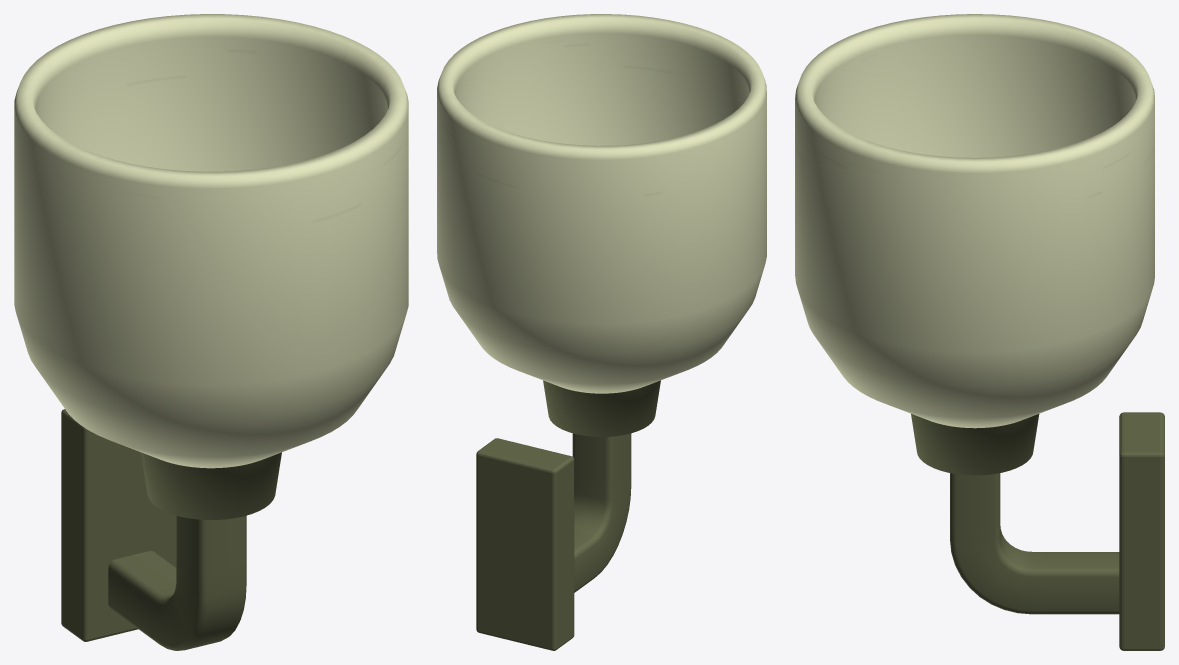
File: StraightLamp_ARCH01_PLATE_C1_UVFIX.fbx
3 views of the same model, side by side, from view 1: azimuth 30°, elevation 25°; view 2: azimuth 150°, elevation 25°; view 3: azimuth 270°, elevation 25° (orthographic). The views are drawn at different scales.
Visible parts, largest first — view 1: StraightLamp; view 2: StraightLamp; view 3: StraightLamp.
Part boxes in pixels (box(x1,y1,x2,y2)): StraightLamp: box(14, 14, 408, 650); StraightLamp: box(437, 14, 766, 650); StraightLamp: box(795, 14, 1164, 650).
Size of the model in its own units: 0.222 by 0.3689 by 0.228.
Materials: 2 (1 with a texture image).
